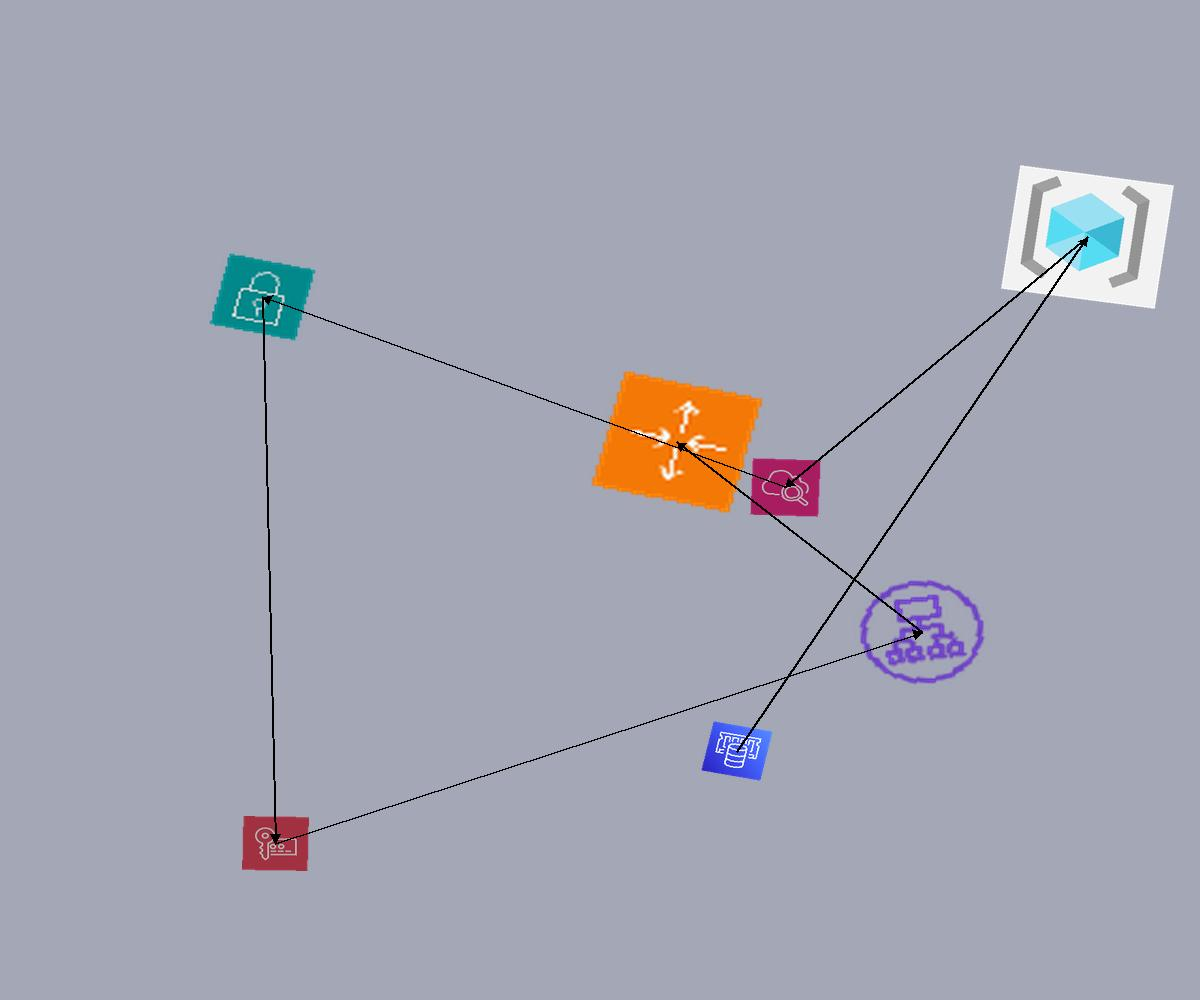AWS-CloudWatch: (750, 458, 821, 517)
AWS-ElastiCache: (701, 721, 773, 781)
AWS-Key-Management-Service: (242, 816, 309, 871)
AWS-Private-subnet: (208, 252, 317, 342)
AWS-Res_Elastic-Load-Balancing_Application-Load-Balancer: (844, 567, 1000, 697)
AWS-Scaling-group: (589, 369, 765, 515)
Azure_resource_group: (1001, 165, 1174, 309)
